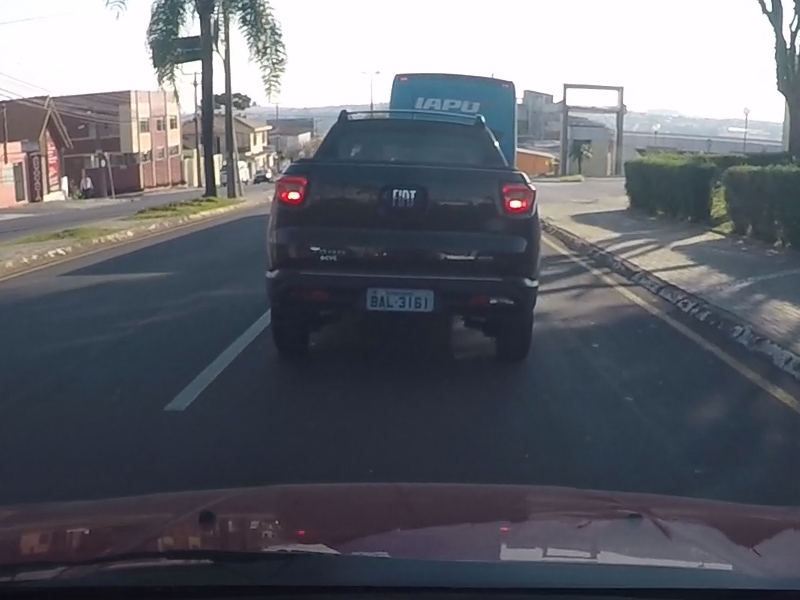placa: (367, 288, 434, 312)
